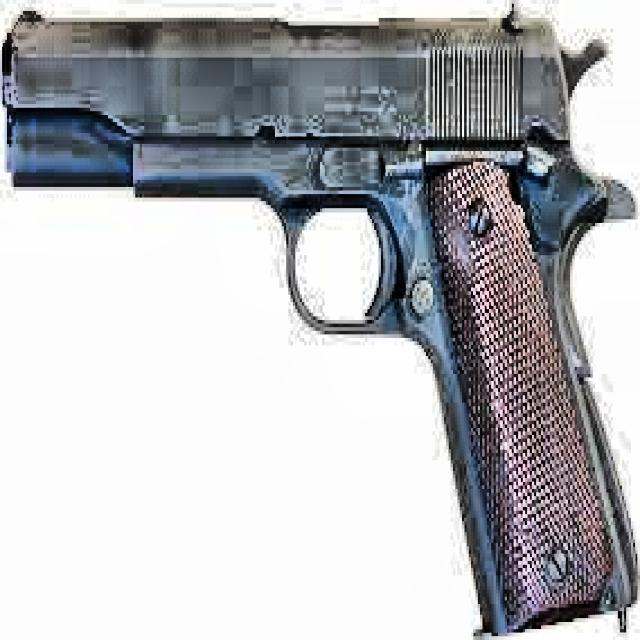Colt m1911: (0, 0, 637, 636)
